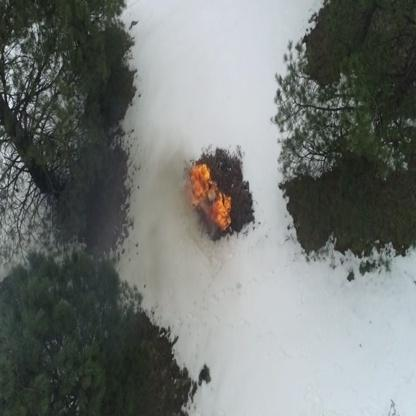Fire: (207, 187, 235, 231), (192, 164, 210, 204)
